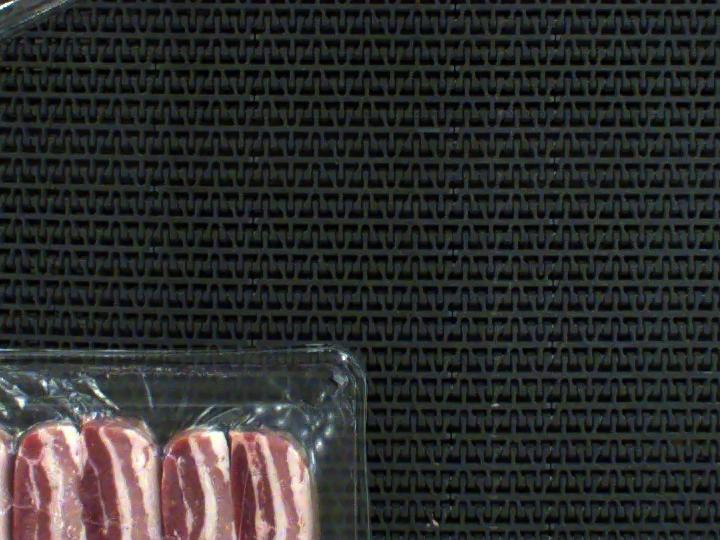unsealed: (0, 381, 350, 540)
